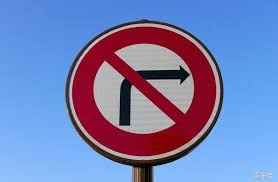No_right_turn: (71, 26, 218, 156)
